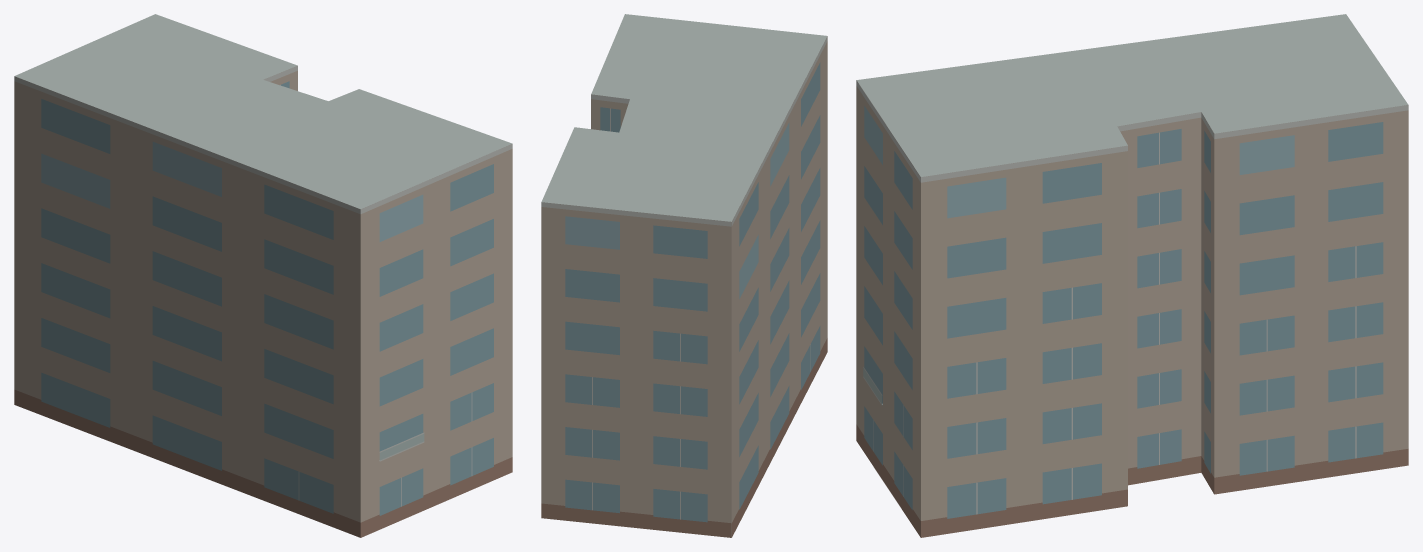
Rendered from survey-upis-32526983.glb.
The picture shows the model from 3 angles, left to right: view 1: azimuth 30°, elevation 25°; view 2: azimuth 150°, elevation 25°; view 3: azimuth 270°, elevation 25°; orthographic projection. The views are drawn at different scales.
Visible parts, largest first — view 1: survey-upis-32526983.tmp; view 2: survey-upis-32526983.tmp; view 3: survey-upis-32526983.tmp.
Boxes of the visible parts, x1,y1,x2,y2 form: survey-upis-32526983.tmp: [14, 14, 512, 537]; survey-upis-32526983.tmp: [541, 14, 827, 537]; survey-upis-32526983.tmp: [856, 14, 1408, 537].
Bounding box in the file's own units: 15.54 × 16 × 22.21.
